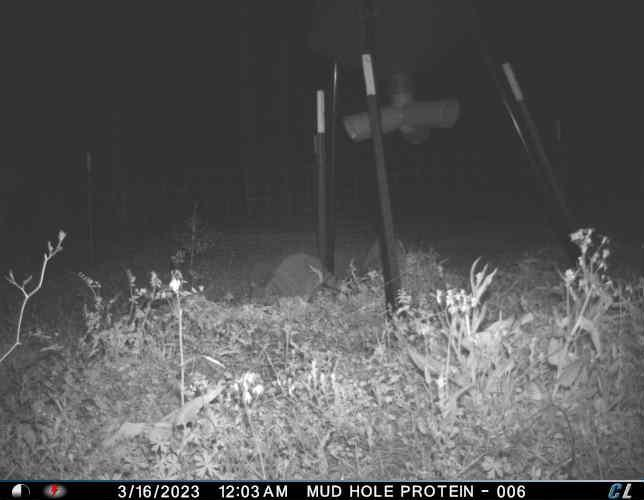Raccoon: (257, 252, 344, 304)
